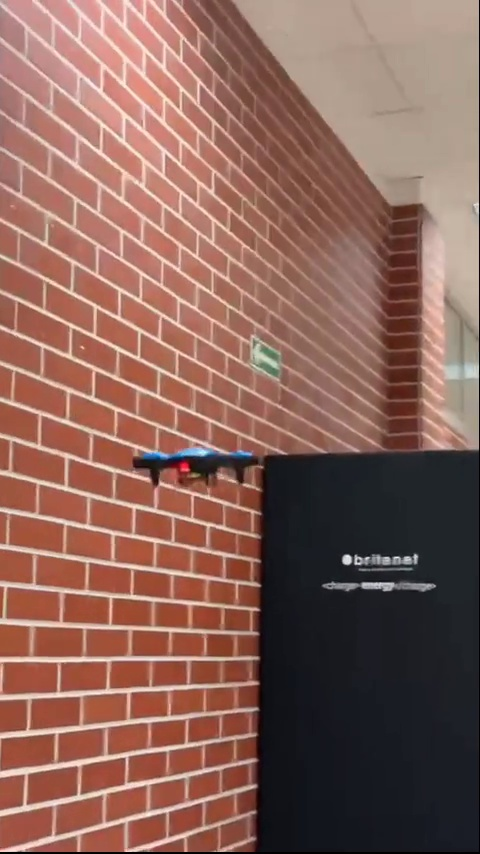drone: (138, 444, 255, 488)
